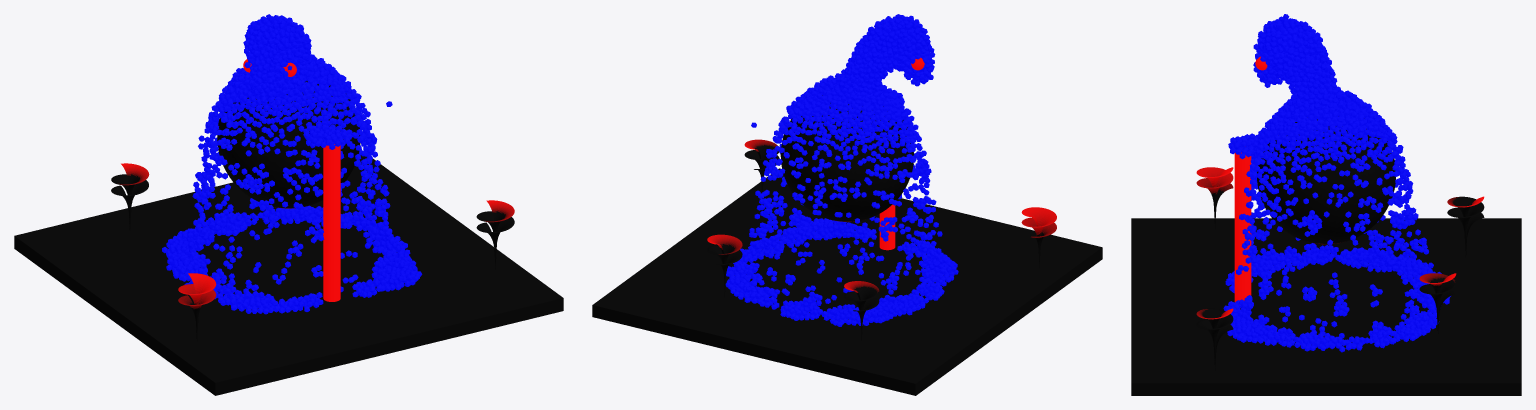
File: BigDee.glb
3 views of the same model, side by side, from view 1: azimuth 30°, elevation 25°; view 2: azimuth 150°, elevation 25°; view 3: azimuth 270°, elevation 25° (orthographic). The views are drawn at different scales.
Bounding box in the file's own units: 14 × 10.96 × 14.
